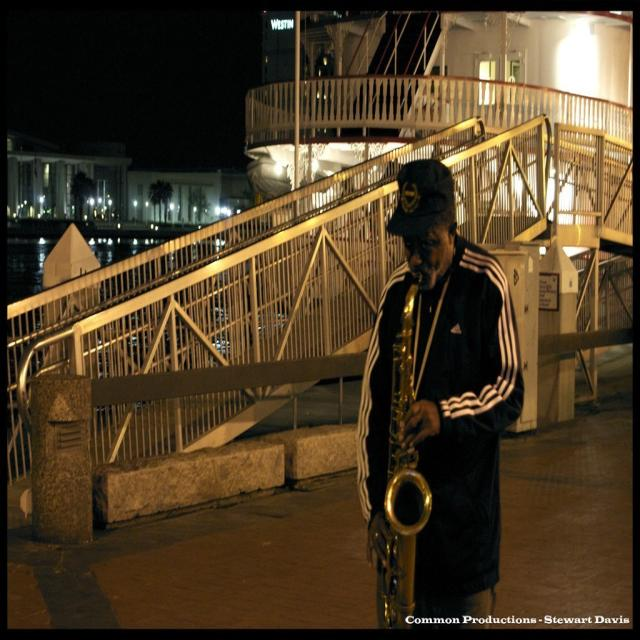saxophone: (376, 275, 434, 624)
